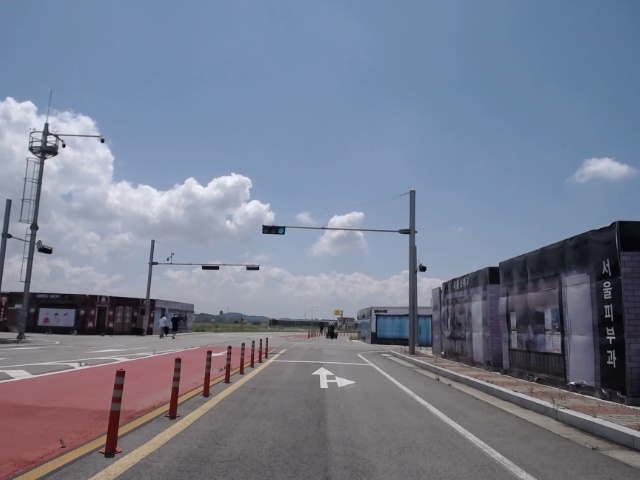green_3: (263, 226, 285, 234)
